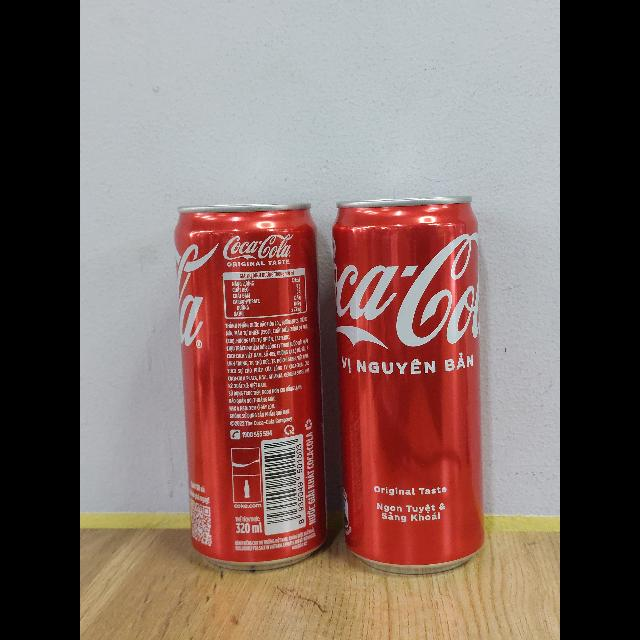coca_cola: (331, 199, 486, 574), (175, 206, 327, 573)
